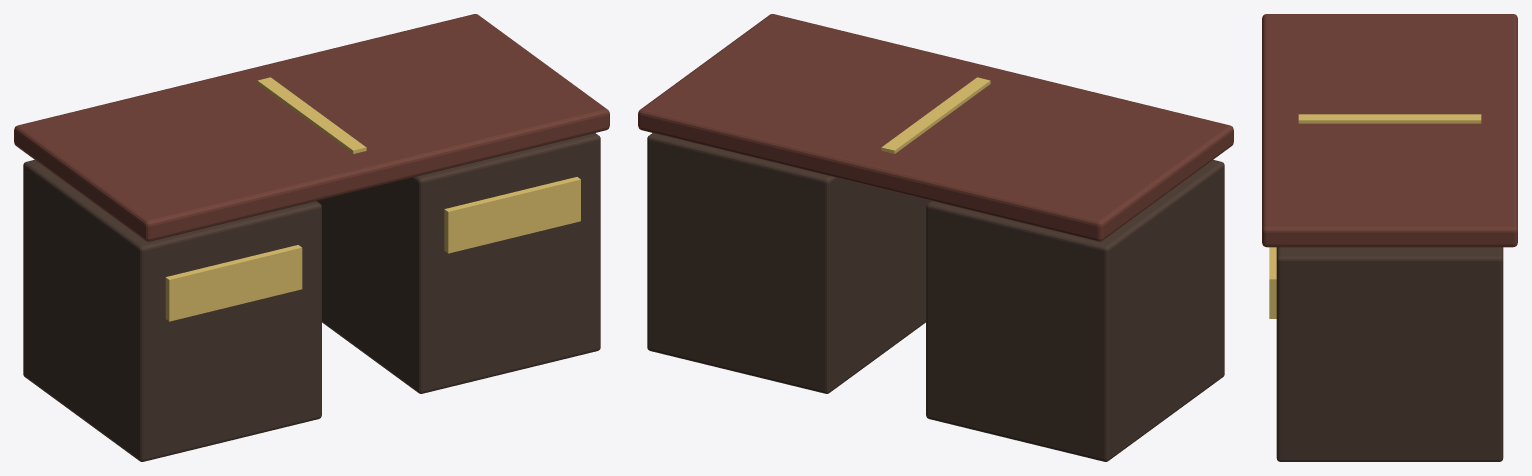
Rendered from desk_coffin_top.glb.
3 views of the same model, side by side, from view 1: azimuth 30°, elevation 25°; view 2: azimuth 150°, elevation 25°; view 3: azimuth 270°, elevation 25° (orthographic). The views are drawn at different scales.
Parts seen in each view (by area): view 1: GD_desk_coffin_top__m1, GD_desk_coffin_top__m0, GD_desk_coffin_top__m2; view 2: GD_desk_coffin_top__m1, GD_desk_coffin_top__m0, GD_desk_coffin_top__m2; view 3: GD_desk_coffin_top__m0, GD_desk_coffin_top__m1, GD_desk_coffin_top__m2.
Boxes of the visible parts, x1,y1,x2,y2 form: GD_desk_coffin_top__m1: (23,133,600,461); GD_desk_coffin_top__m0: (14,14,609,241); GD_desk_coffin_top__m2: (165,77,580,321); GD_desk_coffin_top__m1: (647,133,1224,461); GD_desk_coffin_top__m0: (638,14,1233,241); GD_desk_coffin_top__m2: (881,77,990,153); GD_desk_coffin_top__m0: (1262,14,1517,247); GD_desk_coffin_top__m1: (1276,247,1503,461); GD_desk_coffin_top__m2: (1269,114,1481,318).
Size of the model in its own units: 1.4 by 0.72 by 0.7.
